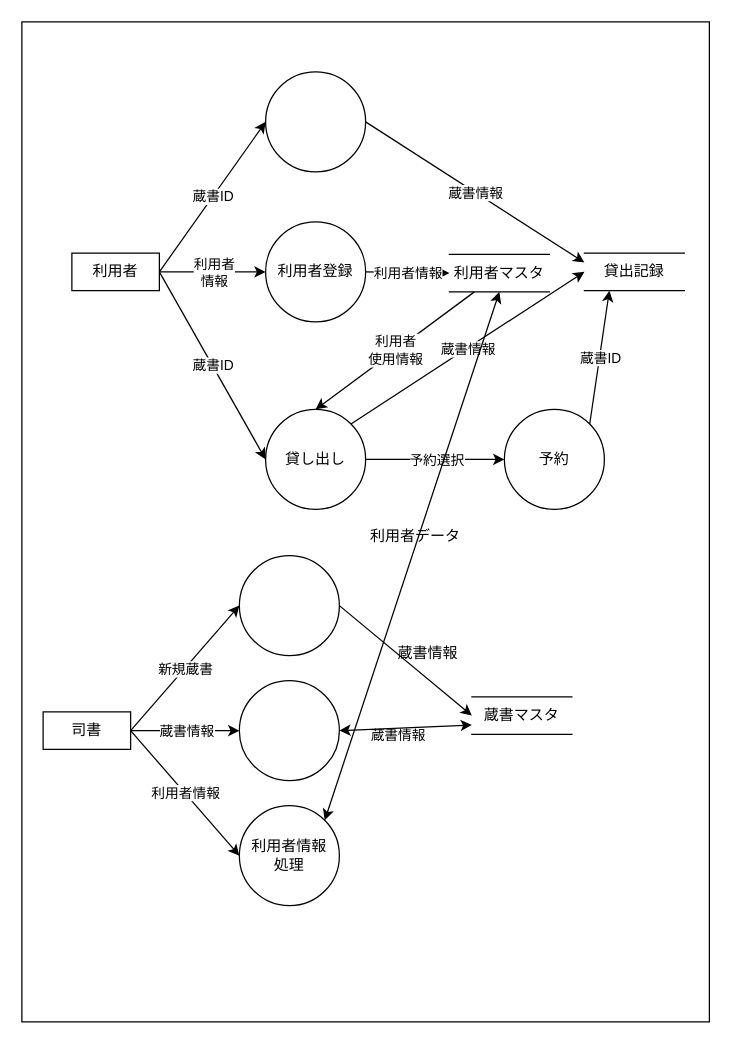
Image size: 731x1044. Some labels were removed from this diagram. Here are the shapes that lost their labels. From the top down, the box of each, then its label:
(264, 71, 366, 172): 返却
(238, 554, 339, 656): 蔵書登録
(238, 679, 339, 781): 蔵書処理
